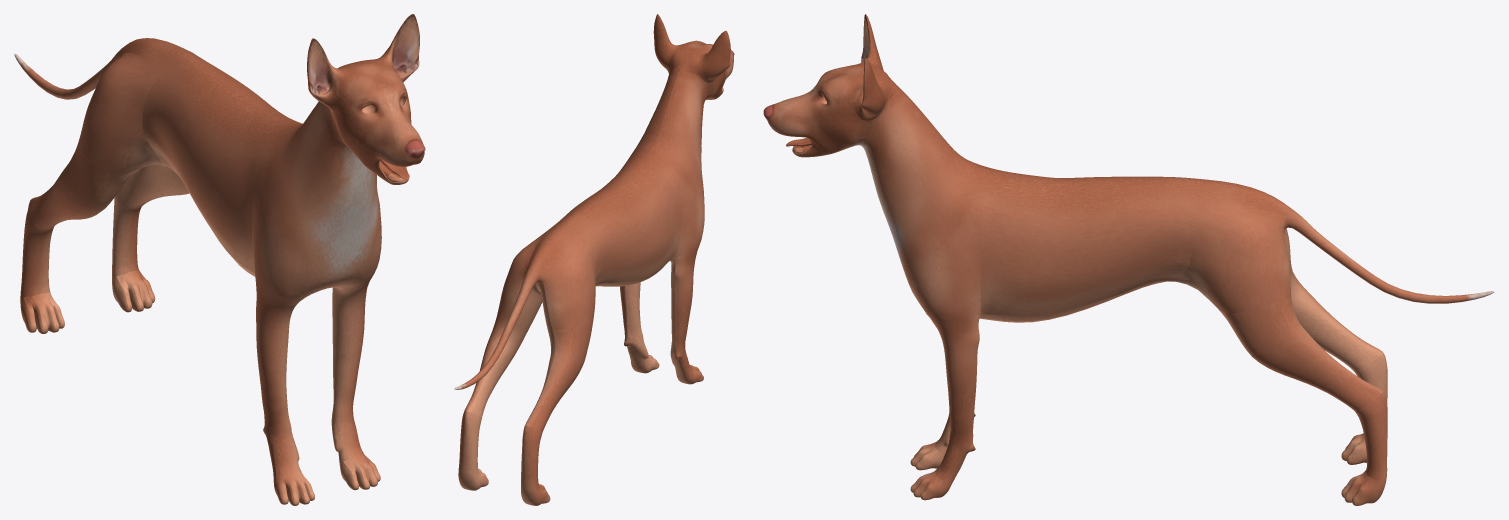
File: Hund-Haut.glb
3 renders of one model, left to right at view 1: azimuth 30°, elevation 25°; view 2: azimuth 150°, elevation 25°; view 3: azimuth 270°, elevation 25°, orthographic. The views are drawn at different scales.
Parts seen in each view (by area): view 1: dog_skin; view 2: dog_skin; view 3: dog_skin.
Boxes of the visible parts, bbox=[...] form: dog_skin: bbox=[14, 14, 425, 505]; dog_skin: bbox=[454, 14, 734, 505]; dog_skin: bbox=[763, 14, 1494, 505].
Bounding box in the file's own units: 0.2173 × 0.8065 × 1.2.
1 material, 1 textured.
